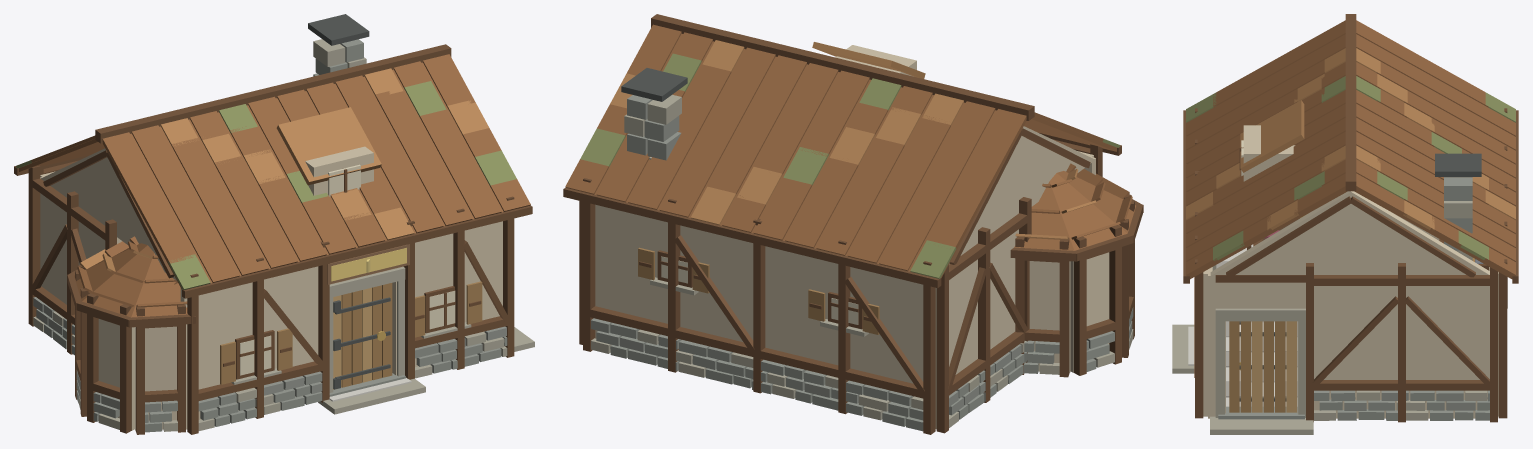
Rendered from holm_bank_v1.glb.
The picture shows the model from 3 angles, left to right: view 1: azimuth 30°, elevation 25°; view 2: azimuth 150°, elevation 25°; view 3: azimuth 270°, elevation 25°; orthographic projection. The views are drawn at different scales.
Parts seen in each view (by area): view 1: Roof_Workyard_Shingle_Umber, Static_Workyard_Oak_Dark, Static_Workyard_Warm_Limewash, Roof_Workyard_Oak_Dark, Roof_Workyard_Shingle_Sun, Static_Workyard_Fieldstone, Static_Workyard_Fieldstone_Light, Roof_Workyard_Warm_Limewash, Roof_Workyard_Shingle_Moss, front_door_Workyard_Oak_Worn, Static_Workyard_Oak_Worn, Static_Workyard_Chalk (+9 smaller); view 2: Roof_Workyard_Shingle_Umber, Static_Workyard_Warm_Limewash, Static_Workyard_Oak_Dark, Roof_Workyard_Oak_Dark, Static_Workyard_Fieldstone, Roof_Workyard_Shingle_Sun, Roof_Workyard_Warm_Limewash, Roof_Workyard_Shingle_Moss, Static_Workyard_Fieldstone_Light, Roof_Workyard_Fieldstone, Static_Workyard_Oak_Worn, Roof_Workyard_Forged_Iron (+2 smaller); view 3: Roof_Workyard_Shingle_Umber, Static_Workyard_Warm_Limewash, Static_Workyard_Oak_Dark, Roof_Workyard_Warm_Limewash, Roof_Workyard_Shingle_Sun, Static_Workyard_Fieldstone_Light, Roof_Workyard_Oak_Dark, Static_Workyard_Fieldstone, staff_door_Workyard_Oak_Worn, Roof_Workyard_Shingle_Moss, staff_door_Workyard_Fresh_Cut, Roof_Workyard_Forged_Iron (+4 smaller).
Part boxes in pixels (left/top/right/bottom): Roof_Workyard_Shingle_Umber: left=19, top=54, right=530, bottom=317; Static_Workyard_Oak_Dark: left=28, top=161, right=514, bottom=434; Static_Workyard_Warm_Limewash: left=40, top=171, right=502, bottom=431; Roof_Workyard_Oak_Dark: left=14, top=44, right=532, bottom=327; Roof_Workyard_Shingle_Sun: left=80, top=68, right=489, bottom=271; Static_Workyard_Fieldstone: left=33, top=297, right=507, bottom=432; Static_Workyard_Fieldstone_Light: left=33, top=267, right=534, bottom=431; Roof_Workyard_Warm_Limewash: left=41, top=146, right=373, bottom=280; Roof_Workyard_Shingle_Moss: left=16, top=81, right=516, bottom=289; front_door_Workyard_Oak_Worn: left=341, top=283, right=392, bottom=387; Static_Workyard_Oak_Worn: left=220, top=281, right=482, bottom=384; Static_Workyard_Chalk: left=240, top=291, right=455, bottom=375; Roof_Workyard_Shingle_Umber: left=565, top=24, right=1135, bottom=277; Static_Workyard_Warm_Limewash: left=595, top=151, right=1109, bottom=429; Static_Workyard_Oak_Dark: left=579, top=139, right=1134, bottom=434; Roof_Workyard_Oak_Dark: left=563, top=14, right=1143, bottom=288; Static_Workyard_Fieldstone: left=591, top=307, right=1133, bottom=431; Roof_Workyard_Shingle_Sun: left=610, top=40, right=1096, bottom=239; Roof_Workyard_Warm_Limewash: left=835, top=45, right=1095, bottom=264; Roof_Workyard_Shingle_Moss: left=580, top=53, right=1120, bottom=278; Static_Workyard_Fieldstone_Light: left=591, top=277, right=1133, bottom=427; Roof_Workyard_Fieldstone: left=627, top=95, right=681, bottom=160; Static_Workyard_Oak_Worn: left=638, top=247, right=879, bottom=334; Roof_Workyard_Forged_Iron: left=621, top=68, right=687, bottom=101; Roof_Workyard_Shingle_Umber: left=1186, top=20, right=1515, bottom=279; Static_Workyard_Warm_Limewash: left=1203, top=213, right=1498, bottom=418; Static_Workyard_Oak_Dark: left=1194, top=108, right=1507, bottom=422; Roof_Workyard_Warm_Limewash: left=1209, top=125, right=1489, bottom=277; Roof_Workyard_Shingle_Sun: left=1186, top=48, right=1515, bottom=230; Static_Workyard_Fieldstone_Light: left=1172, top=265, right=1487, bottom=434; Roof_Workyard_Oak_Dark: left=1183, top=14, right=1518, bottom=283; Static_Workyard_Fieldstone: left=1218, top=390, right=1489, bottom=420; staff_door_Workyard_Oak_Worn: left=1229, top=321, right=1285, bottom=412; Roof_Workyard_Shingle_Moss: left=1186, top=76, right=1515, bottom=260; staff_door_Workyard_Fresh_Cut: left=1252, top=321, right=1296, bottom=412; Roof_Workyard_Forged_Iron: left=1435, top=153, right=1481, bottom=176.
Bounding box in the file's own units: 13.4 × 7.61 × 9.69.
